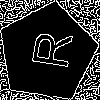R: (22, 27, 73, 70)
